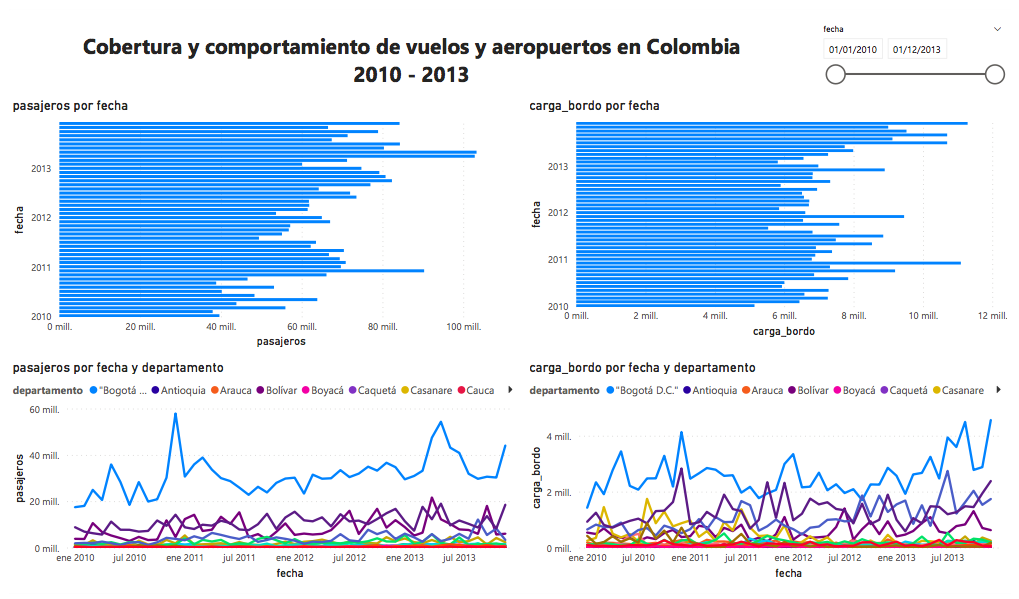

The dashboard page shown, as its layout file describes it:
{"tool":"powerbi","page":{"name":"Página 1","canvas":[1280,720],"ordinal":0},"visuals":[{"type":"barChart","fields":{"Y":["Sum(vuelos.pasajeros)"],"Category":["fechas.fecha"]},"box":[0,98.6,660.3,324.9],"z":0},{"type":"barChart","fields":{"Category":["fechas.fecha"],"Y":["Sum(vuelos.carga_bordo)"]},"box":[660.3,98.6,619.7,312.2],"z":1},{"type":"lineChart","fields":{"Y":["Sum(vuelos.pasajeros)"],"Category":["fechas.fecha"],"Series":["aeropuertos.departamento"]},"box":[0,434,660.3,285.5],"z":2},{"type":"lineChart","fields":{"Category":["fechas.fecha"],"Series":["aeropuertos.departamento"],"Y":["Sum(vuelos.carga_bordo)"]},"box":[660.3,434,619.7,285.5],"z":3},{"type":"slicer","fields":{"Values":["fechas.fecha"]},"box":[1027,0,253,98.6],"z":4},{"type":"textbox","box":[56.9,9.3,922.6,81.2],"z":5}]}

Visuals, with their boxes on the page's 1280x720 design canvas (x1, y1, x2, y2). These are canvas units, not pixel positions in the 1019x599 screenshot, which may show the page scaled, cropped or inside an application window:
barChart - Sum(vuelos.pasajeros) x fechas.fecha: (x1=0, y1=99, x2=660, y2=424)
barChart - fechas.fecha x Sum(vuelos.carga_bordo): (x1=660, y1=99, x2=1280, y2=411)
lineChart - Sum(vuelos.pasajeros) x fechas.fecha: (x1=0, y1=434, x2=660, y2=720)
lineChart - fechas.fecha x aeropuertos.departamento: (x1=660, y1=434, x2=1280, y2=720)
slicer - fechas.fecha: (x1=1027, y1=0, x2=1280, y2=99)
textbox: (x1=57, y1=9, x2=980, y2=90)
